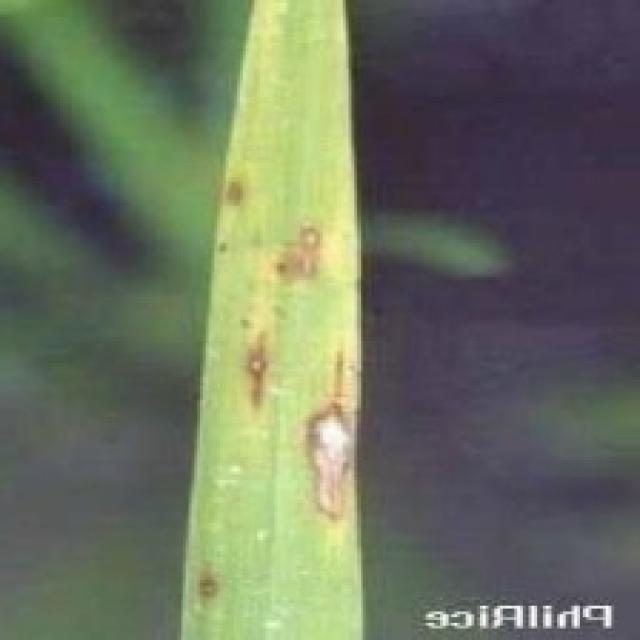Rice___Rice_Blast: (178, 0, 364, 637)
